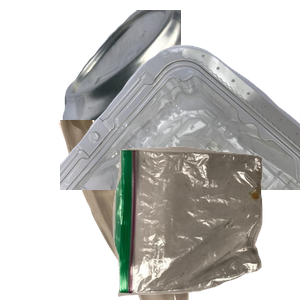glass: (56, 120, 241, 300)
metal: (60, 10, 300, 190)
plastic: (60, 43, 300, 223)
trash: (110, 144, 300, 300)
